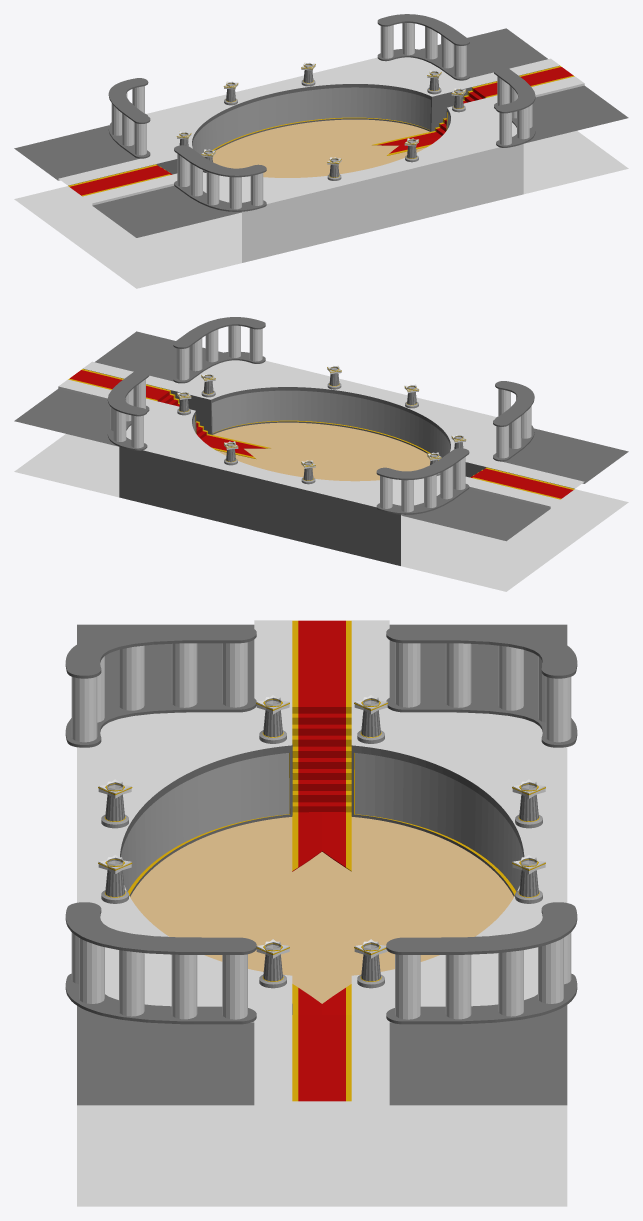
The model's file is Cosmostasia_Arena1.glb.
3 views of the same model, one above another, from view 1: azimuth 30°, elevation 25°; view 2: azimuth 150°, elevation 25°; view 3: azimuth 270°, elevation 25° (orthographic). The views are drawn at different scales.
Visible parts, largest first — view 1: MainArena, PillarsSW, PillarsNE, PillarsNW, PillarsSE, TapisE; view 2: MainArena, PillarsSE, PillarsNW, PillarsSW, PillarsNE, TapisE; view 3: MainArena, PillarsNE, PillarsSE, PillarsSW, PillarsNW, TapisW, TapisE, BrasierSSE, BrasierNNE, BrasierSSW, BrasierWNW, BrasierESE (+3 smaller).
Part boxes in pixels (x1,y1,x2,y2): MainArena: [14, 28, 628, 288]; PillarsSW: [174, 145, 266, 211]; PillarsNE: [377, 14, 469, 80]; PillarsNW: [108, 78, 150, 158]; PillarsSE: [494, 67, 535, 147]; TapisE: [372, 131, 441, 155]; MainArena: [14, 331, 628, 591]; PillarsSE: [173, 317, 265, 383]; PillarsNW: [376, 448, 469, 514]; PillarsSW: [493, 381, 534, 461]; PillarsNE: [107, 370, 149, 450]; TapisE: [201, 434, 270, 458]; MainArena: [77, 620, 567, 1206]; PillarsNE: [386, 902, 577, 1024]; PillarsSE: [65, 902, 256, 1024]; PillarsSW: [65, 625, 256, 747]; PillarsNW: [386, 625, 577, 747]; TapisW: [292, 812, 351, 871]; TapisE: [292, 984, 351, 1014]; BrasierSSE: [98, 855, 132, 903]; BrasierNNE: [512, 855, 545, 903]; BrasierSSW: [98, 779, 132, 828]; BrasierWNW: [354, 695, 387, 743]; BrasierESE: [256, 939, 289, 988].
Size of the model in its own units: 29.2 by 5.04 by 13.14.
